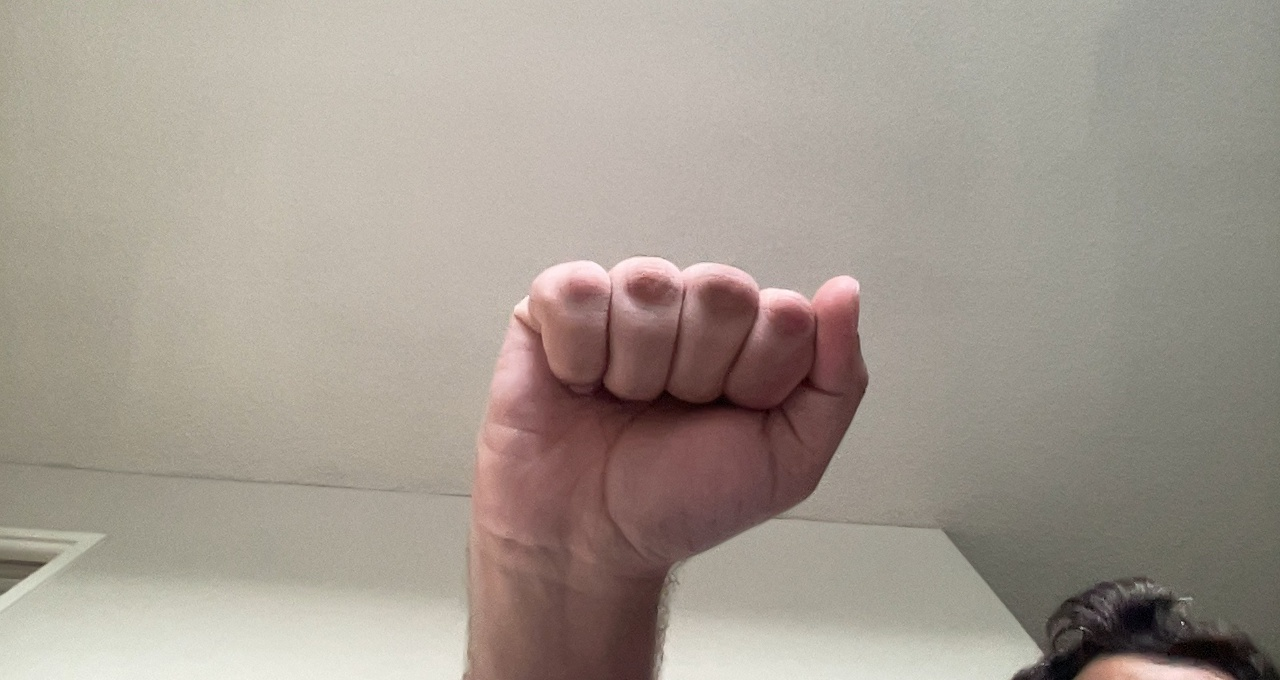closedfist: (458, 246, 874, 580)
